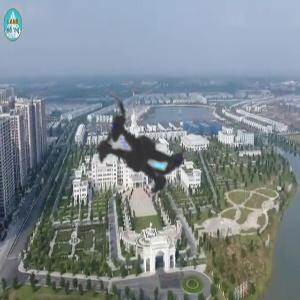drone: (40, 55, 249, 264)
